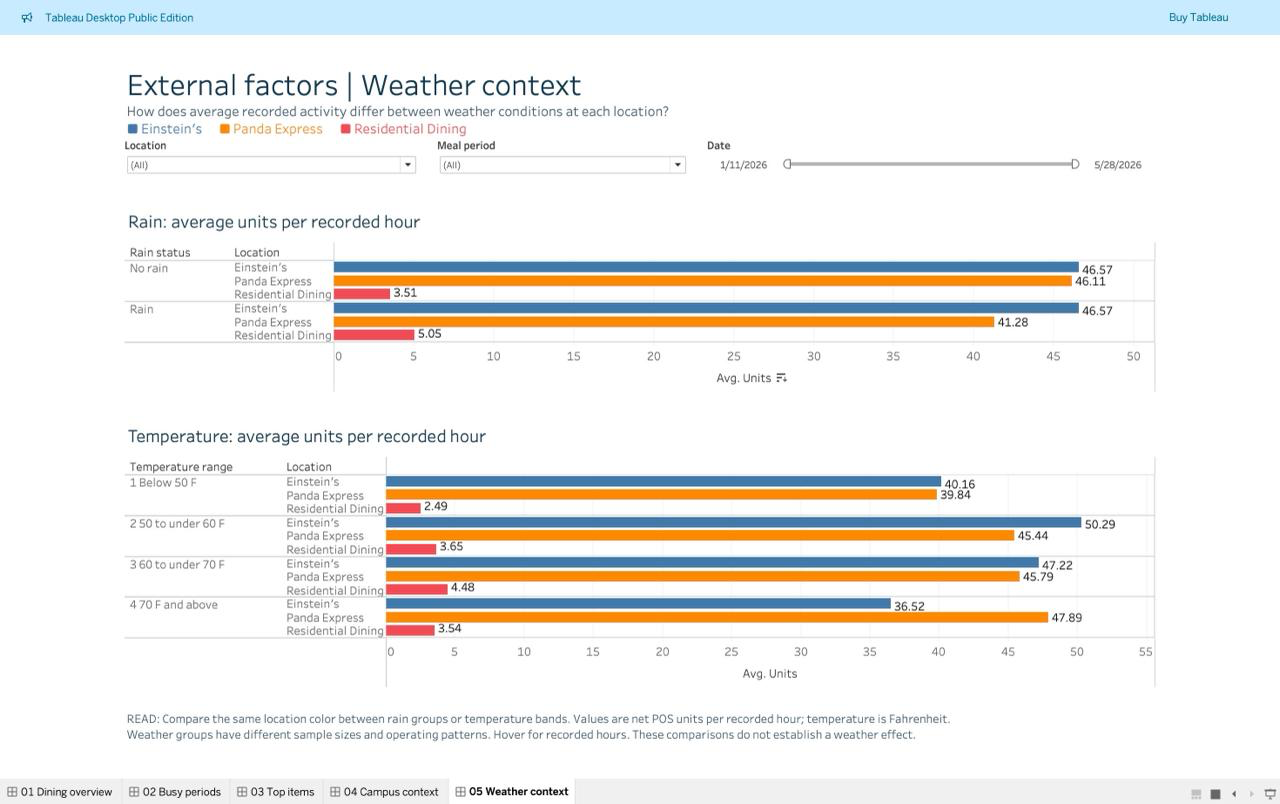

This screenshot's page, from the dashboard's own definition file:
{"tool":"tableau","page":{"name":"05 Weather context","canvas":[1200,780],"ordinal":4},"visuals":[{"type":"text","box":[24.4,9.2,1151.3,40.4]},{"type":"text","box":[24.4,49.6,1151.3,19.3]},{"type":"text","box":[24.4,68.8,1151.3,19.3]},{"type":"filter","title":"05 Rain","param":"[federated.servesmart_hourly].[none:Location:nk]","box":[24.4,89,328.1,53.2]},{"type":"filter","title":"05 Rain","param":"[federated.servesmart_hourly].[none:DayPart:nk]","box":[373.1,89,281.3,53.2]},{"type":"filter","title":"05 Rain","param":"[federated.servesmart_hourly].[none:Date:qk]","box":[675,89,500.6,53.2]},{"type":"worksheet","title":"05 Rain","mark":"Bar","rows":["RainCondition","Location"],"cols":["Units"],"box":[16.9,157.8,1166.3,224.8]},{"type":"worksheet","title":"05 Temperature","mark":"Bar","rows":["TemperatureBand","Location"],"cols":["Units"],"box":[16.9,399.2,1166.3,316.6]},{"type":"text","box":[24.4,727.7,1151.3,45]}]}

Visuals, with their boxes on the page's 1200x780 design canvas (x1, y1, x2, y2). These are canvas units, not pixel positions in the 1280x804 screenshot, which may show the page scaled, cropped or inside an application window:
text: rect(24, 9, 1176, 50)
text: rect(24, 50, 1176, 69)
text: rect(24, 69, 1176, 88)
"05 Rain" filter: rect(24, 89, 352, 142)
"05 Rain" filter: rect(373, 89, 654, 142)
"05 Rain" filter: rect(675, 89, 1176, 142)
"05 Rain" worksheet (Bar marks): rect(17, 158, 1183, 383)
"05 Temperature" worksheet (Bar marks): rect(17, 399, 1183, 716)
text: rect(24, 728, 1176, 773)
